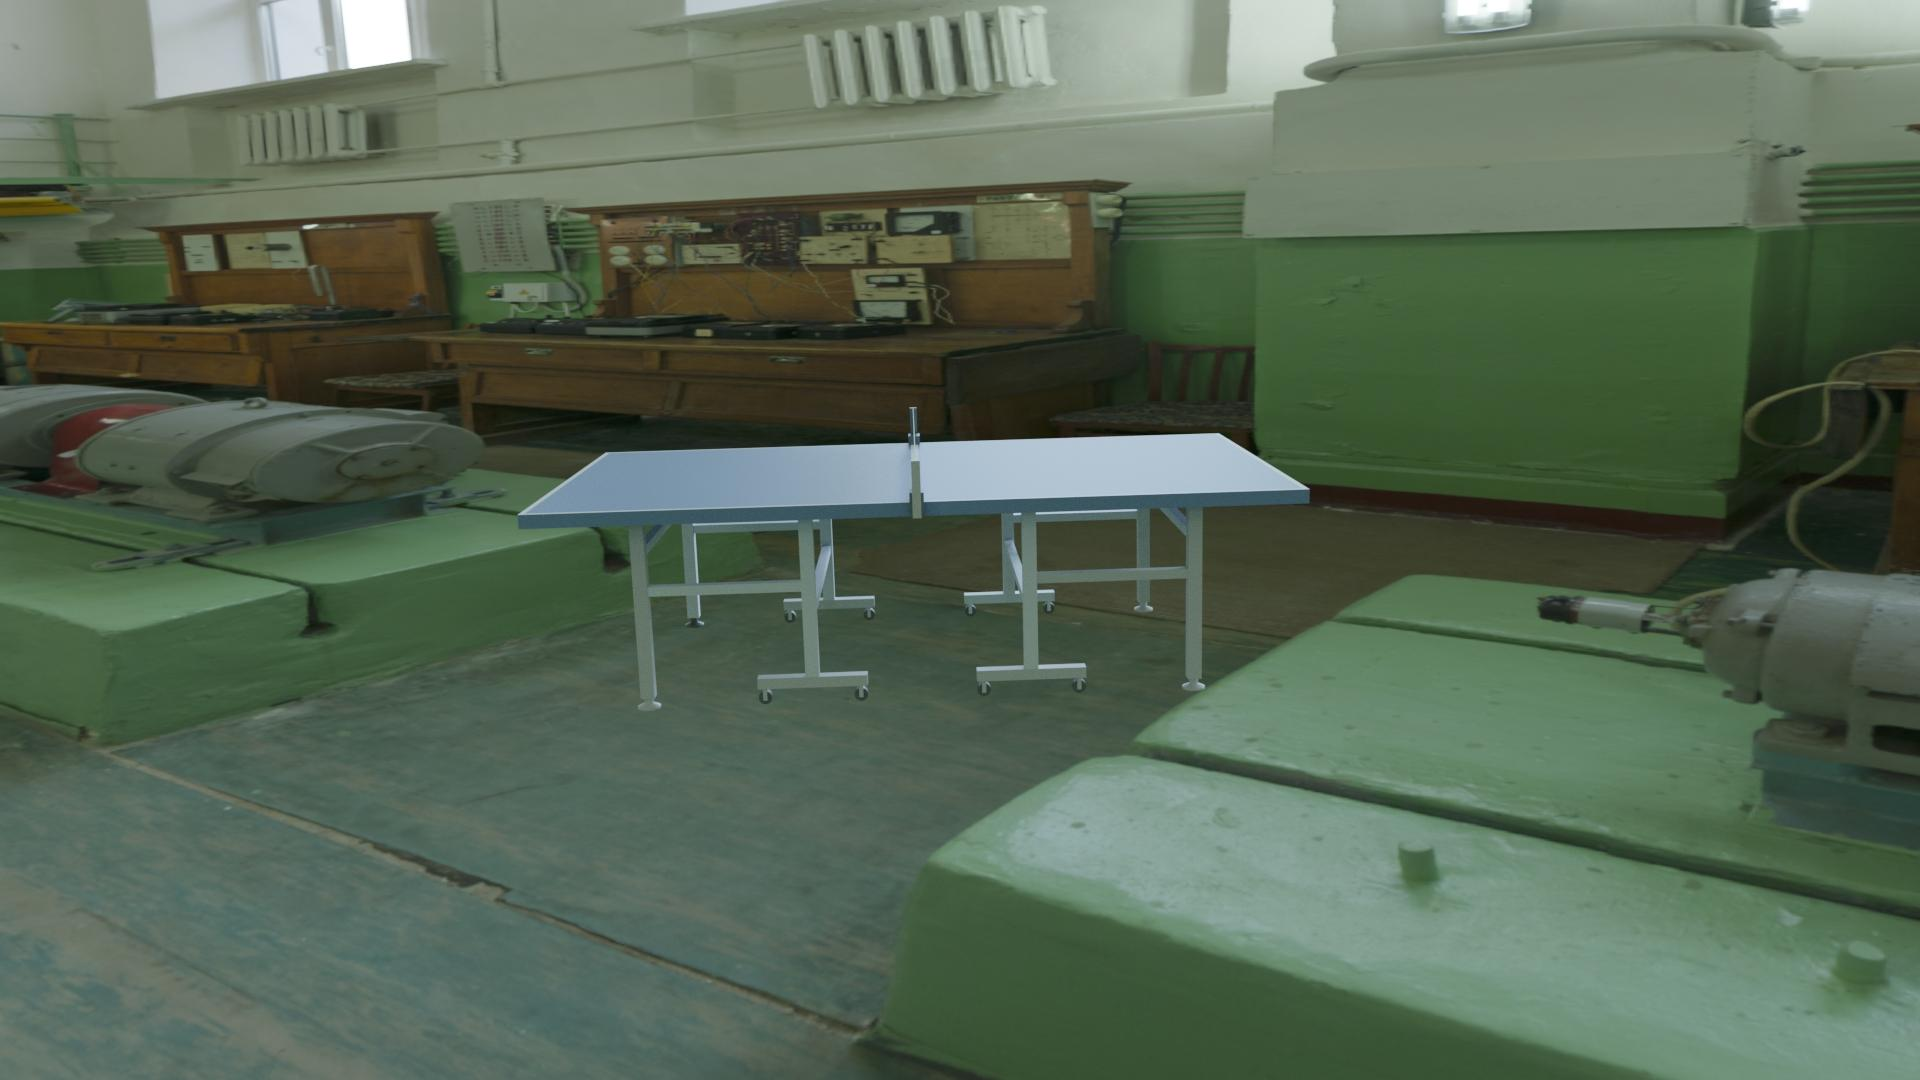table: (525, 434, 1303, 514)
